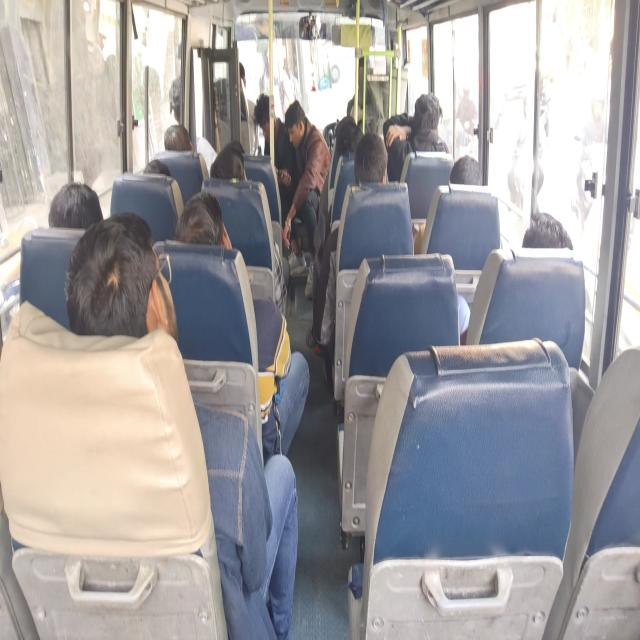person: (64, 211, 299, 638), (175, 190, 310, 462), (306, 132, 389, 352), (458, 211, 573, 344), (209, 141, 290, 313), (419, 154, 483, 340), (282, 100, 332, 298), (253, 92, 299, 226), (384, 92, 449, 182), (164, 123, 218, 173), (48, 181, 103, 229), (522, 212, 573, 249), (210, 140, 247, 180), (449, 154, 483, 185), (164, 124, 192, 151), (142, 158, 170, 176)
